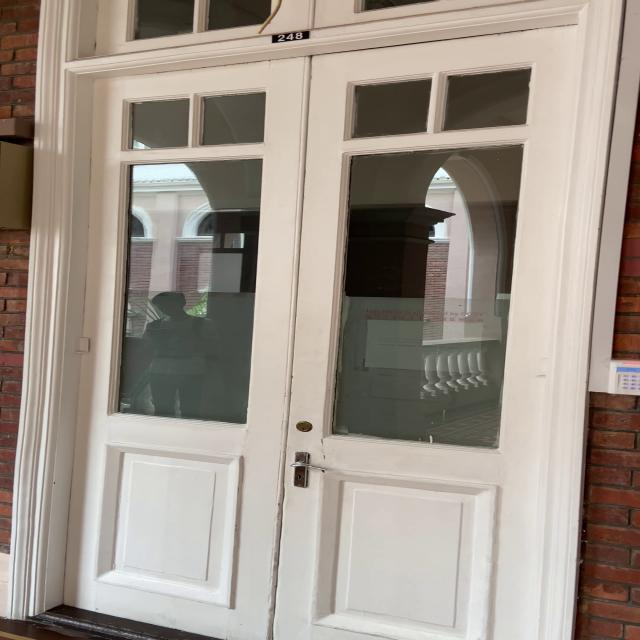room248: (262, 26, 314, 45)
